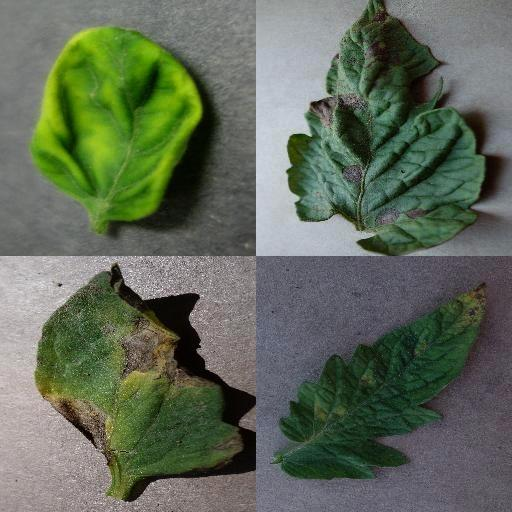Early Blight: (287, 0, 489, 256), (34, 263, 244, 477)
Leaf Mold: (277, 280, 491, 482)
Yellow Leaf Curl Virus: (29, 26, 203, 222)
